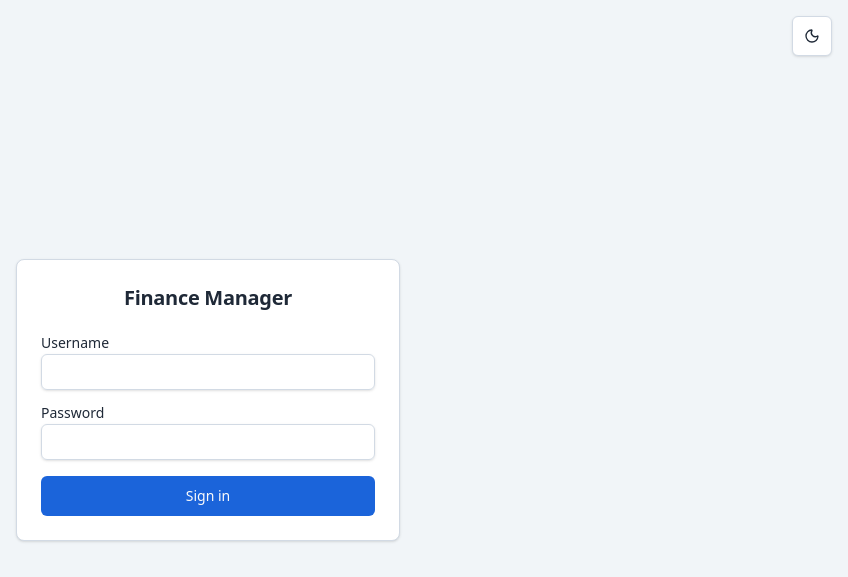
Test case: LoginPage — 429 rate-limit lockout (Req 1.6) › displays lockout message when rate limited
Type "admin" into the field labelled "Username" at (208, 372), box top-left (41, 354), bottom-right (375, 390)
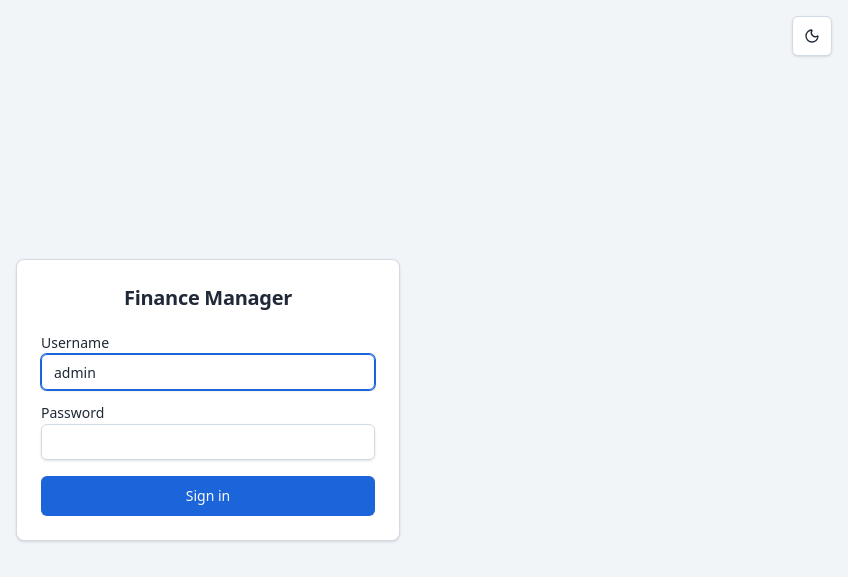
Type "SecurePass1" into the password field labelled "Password" at (208, 442), box top-left (41, 424), bottom-right (375, 460)
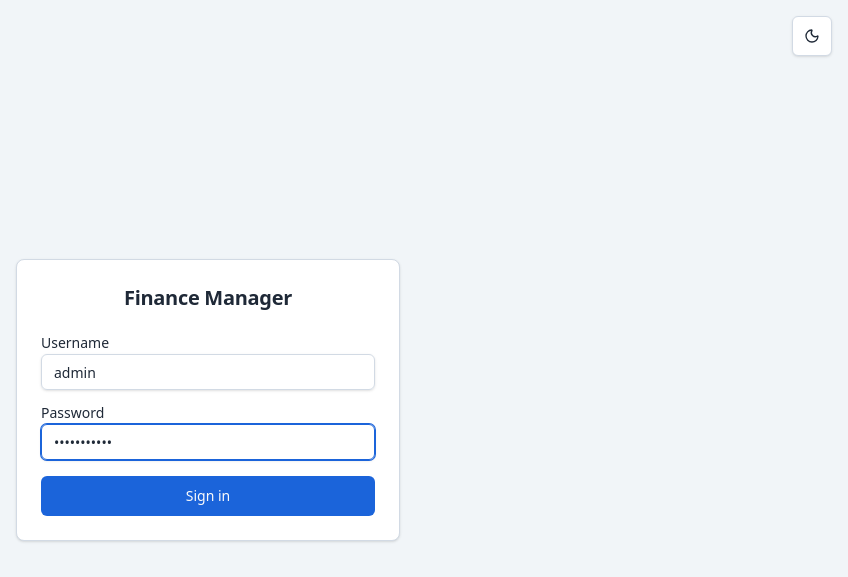
Click the button "Sign in" at (208, 496), box top-left (41, 476), bottom-right (375, 516)
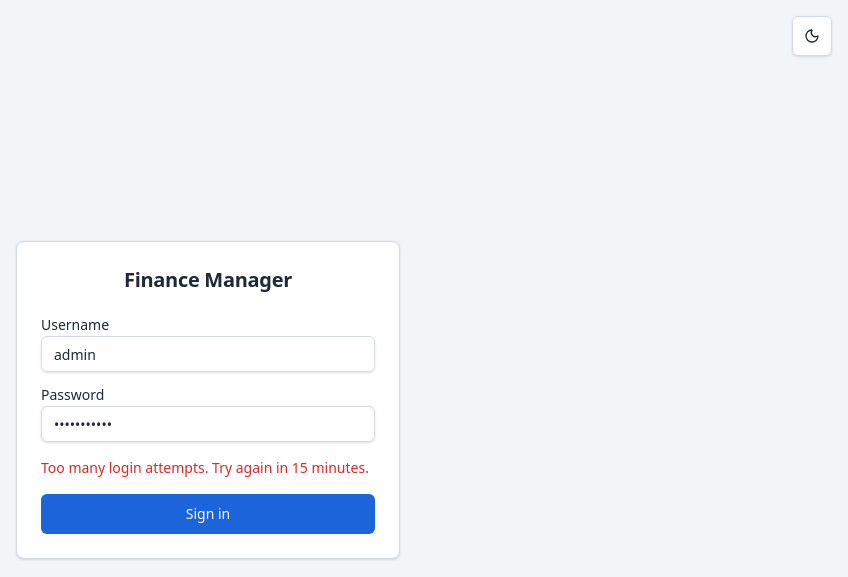
Expected: the text "Too many login attempts. Try again in 15 minutes." is shown, top-left (41, 458), bottom-right (375, 478)
